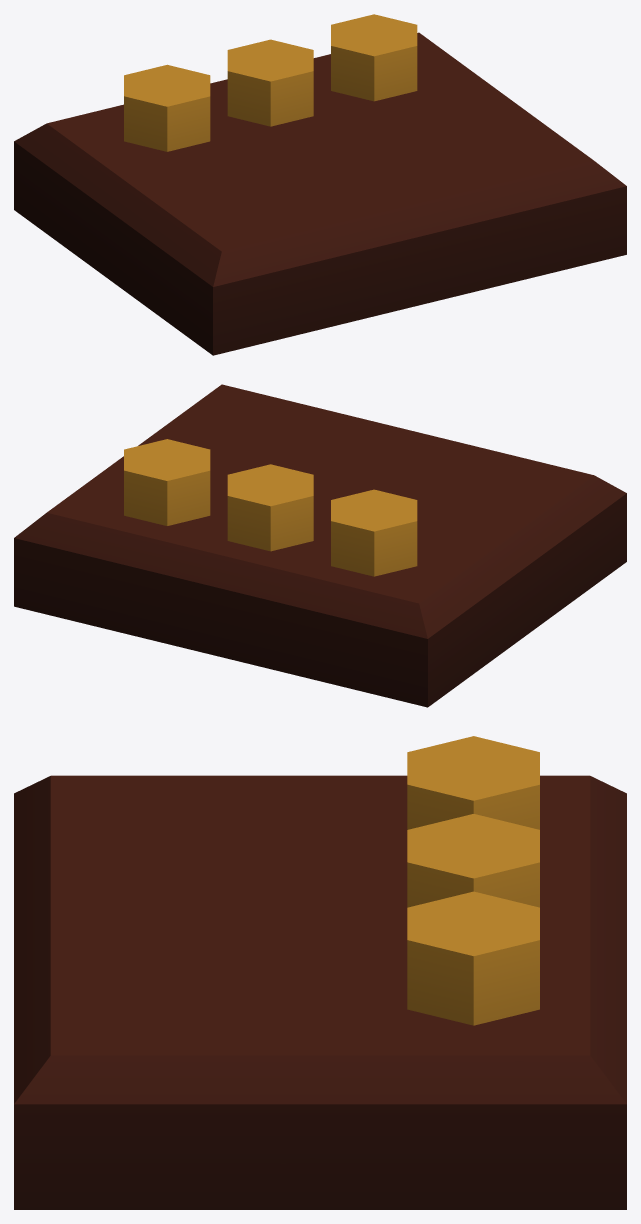
Rendered from productivity-module-3.glb.
3 renders of one model, top to bottom at view 1: azimuth 30°, elevation 25°; view 2: azimuth 150°, elevation 25°; view 3: azimuth 270°, elevation 25°, orthographic. The views are drawn at different scales.
Parts seen in each view (by area): view 1: productivity-module-3; view 2: productivity-module-3; view 3: productivity-module-3.
Boxes of the visible parts, <box> form: productivity-module-3: <box>14,14,626,355</box>; productivity-module-3: <box>14,384,626,707</box>; productivity-module-3: <box>14,736,626,1209</box>.
Bounding box in the file's own units: 0.24 × 0.075 × 0.2.
